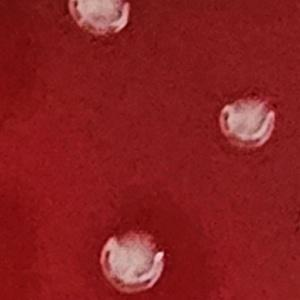colony: (92, 226, 174, 298), (214, 92, 280, 154), (64, 0, 137, 41)
